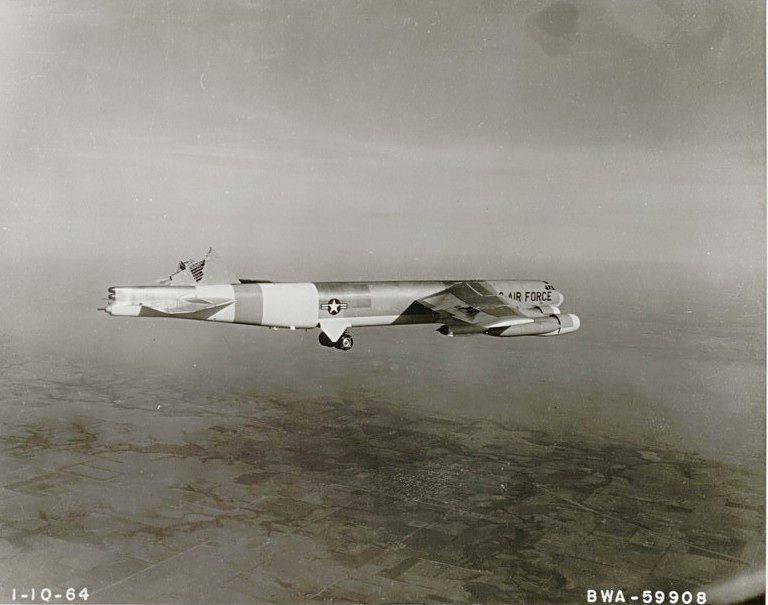B52: (96, 246, 580, 351)
